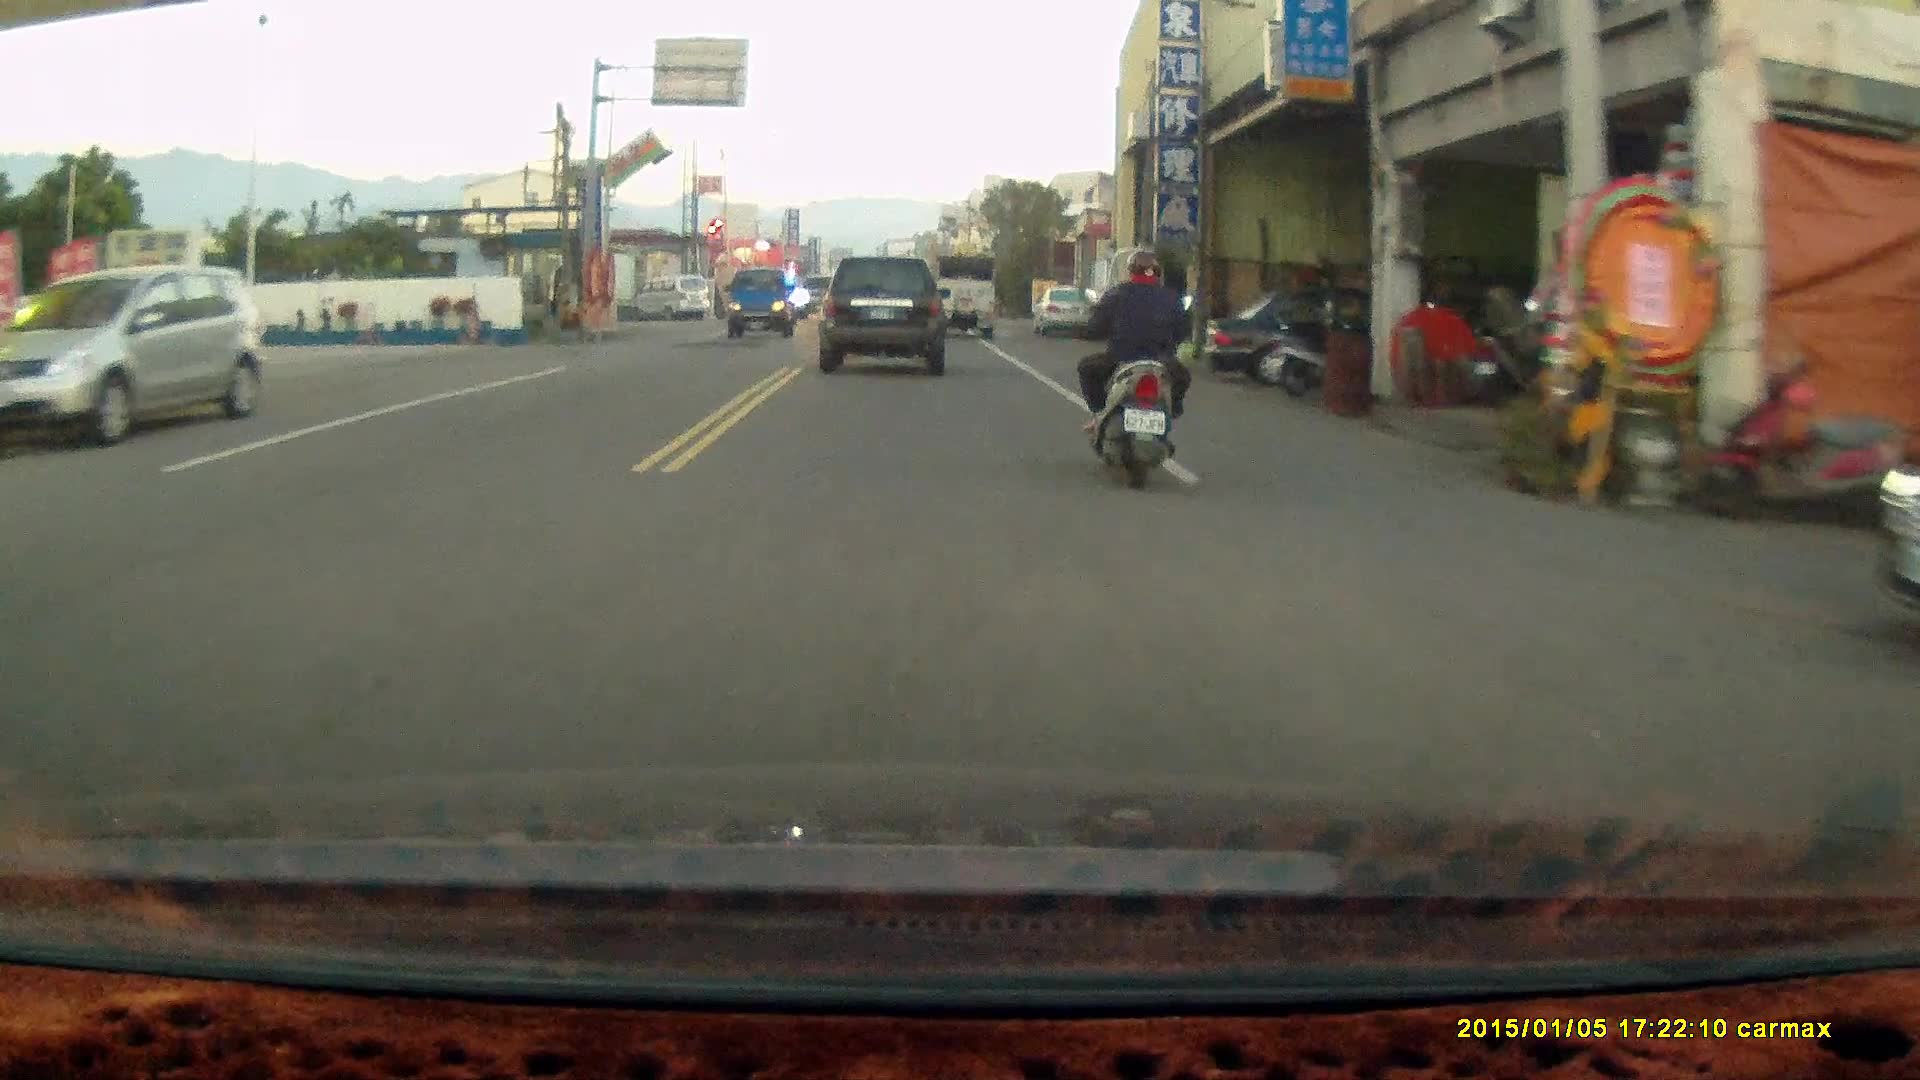rider: (1078, 244, 1193, 487)
vehicle: (2, 268, 266, 445), (1198, 287, 1449, 394), (818, 255, 948, 379), (928, 254, 999, 338), (727, 269, 804, 343), (630, 275, 715, 325), (1035, 285, 1098, 337)
